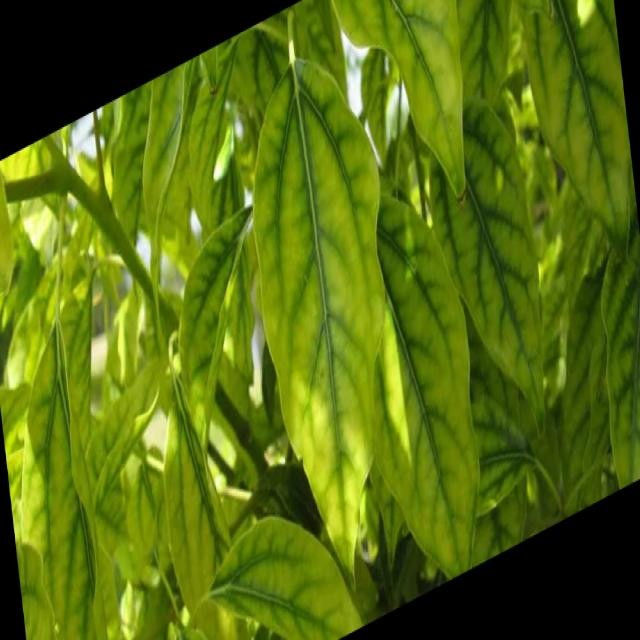Chlorosis: (7, 27, 640, 631)
